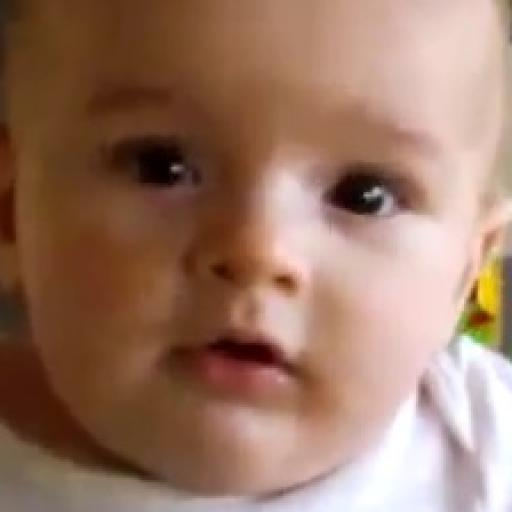Autism: (8, 5, 512, 495)
